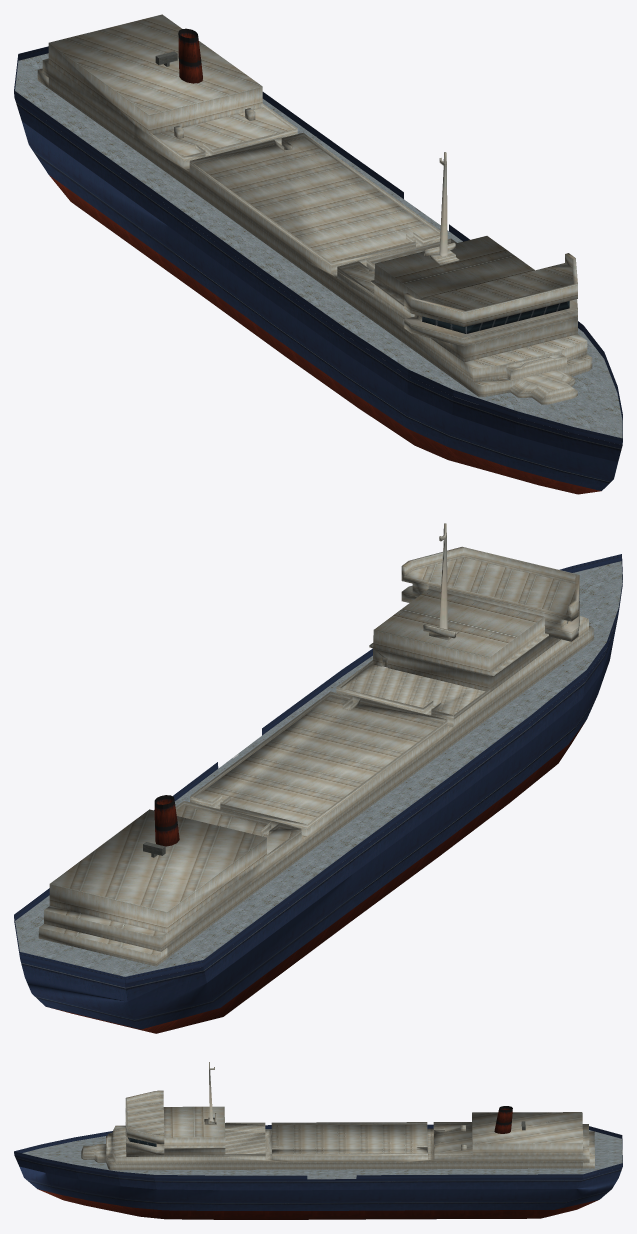
Rendered from Ship.obj.
3 views of the same model, one above another, from view 1: azimuth 30°, elevation 25°; view 2: azimuth 150°, elevation 25°; view 3: azimuth 270°, elevation 25° (orthographic). The views are drawn at different scales.
Visible parts, largest first — view 1: Bridge, Hull, Floor, Hull_Low, Smoke, Glass; view 2: Bridge, Hull, Floor, Hull_Low, Smoke; view 3: Bridge, Hull, Floor, Hull_Low, Smoke.
Part boxes in pixels (x1=…): Bridge: x1=37, y1=14, x2=592, y2=404; Hull: x1=14, y1=46, x2=622, y2=490; Floor: x1=15, y1=53, x2=622, y2=438; Hull_Low: x1=49, y1=175, x2=601, y2=494; Smoke: x1=178, y1=28, x2=202, y2=83; Glass: x1=422, y1=301, x2=569, y2=333; Bridge: x1=38, y1=523, x2=593, y2=966; Hull: x1=14, y1=554, x2=622, y2=1029; Floor: x1=15, y1=561, x2=622, y2=976; Hull_Low: x1=51, y1=721, x2=585, y2=1033; Smoke: x1=154, y1=795, x2=179, y2=846; Bridge: x1=81, y1=1062, x2=594, y2=1170; Hull: x1=14, y1=1124, x2=622, y2=1210; Floor: x1=22, y1=1129, x2=622, y2=1179; Hull_Low: x1=38, y1=1189, x2=598, y2=1219; Smoke: x1=494, y1=1106, x2=512, y2=1133.
Bounding box in the file's own units: 42.82 × 53.33 × 214.
7 materials, 7 textured.
